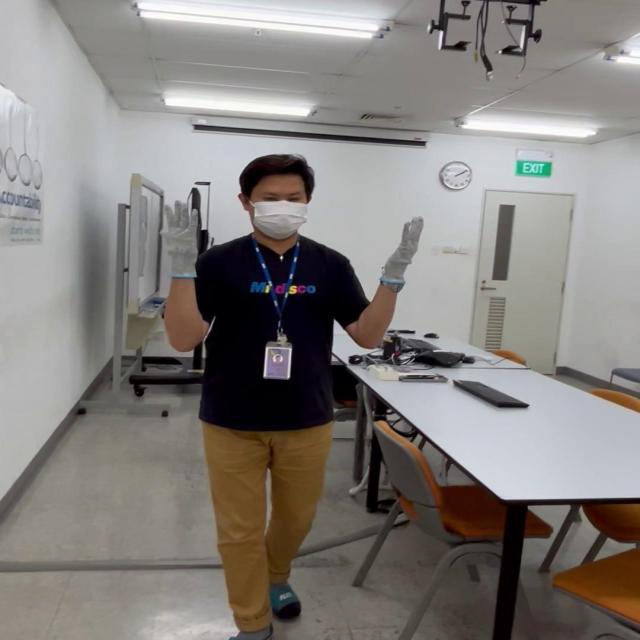gloved_hand: (162, 192, 207, 276), (384, 214, 424, 292)
